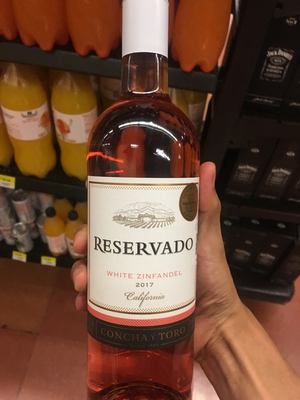reservado white zinfandel: (83, 5, 201, 387)
